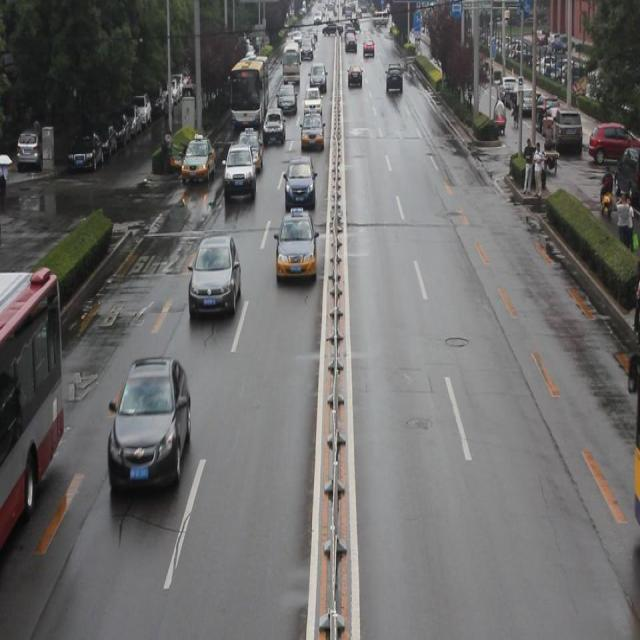car: (108, 358, 190, 489), (189, 236, 242, 316), (276, 210, 316, 281), (223, 143, 255, 197), (183, 134, 216, 184), (285, 154, 314, 209), (238, 128, 262, 172), (261, 104, 285, 145), (300, 111, 323, 151), (301, 87, 323, 119), (277, 84, 296, 115)
van: (1, 268, 65, 547), (232, 51, 268, 132)
